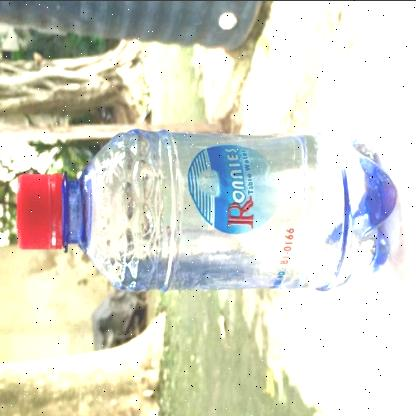Plastic Bottle: (18, 128, 396, 290)
